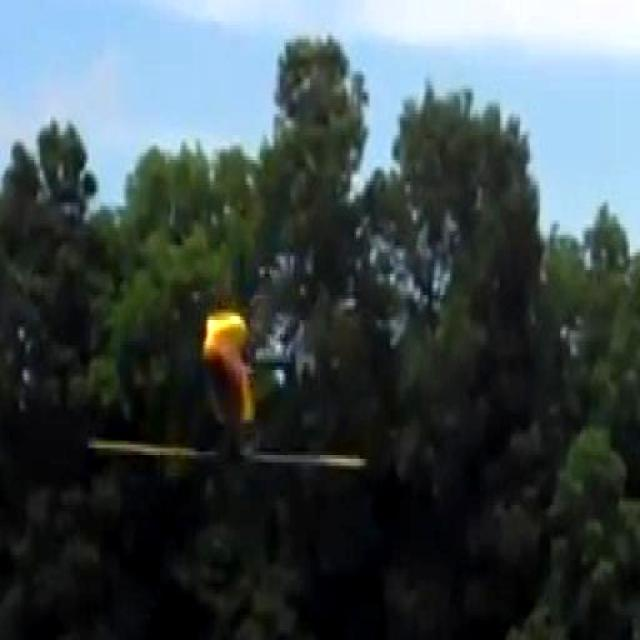drone: (85, 308, 365, 488)
